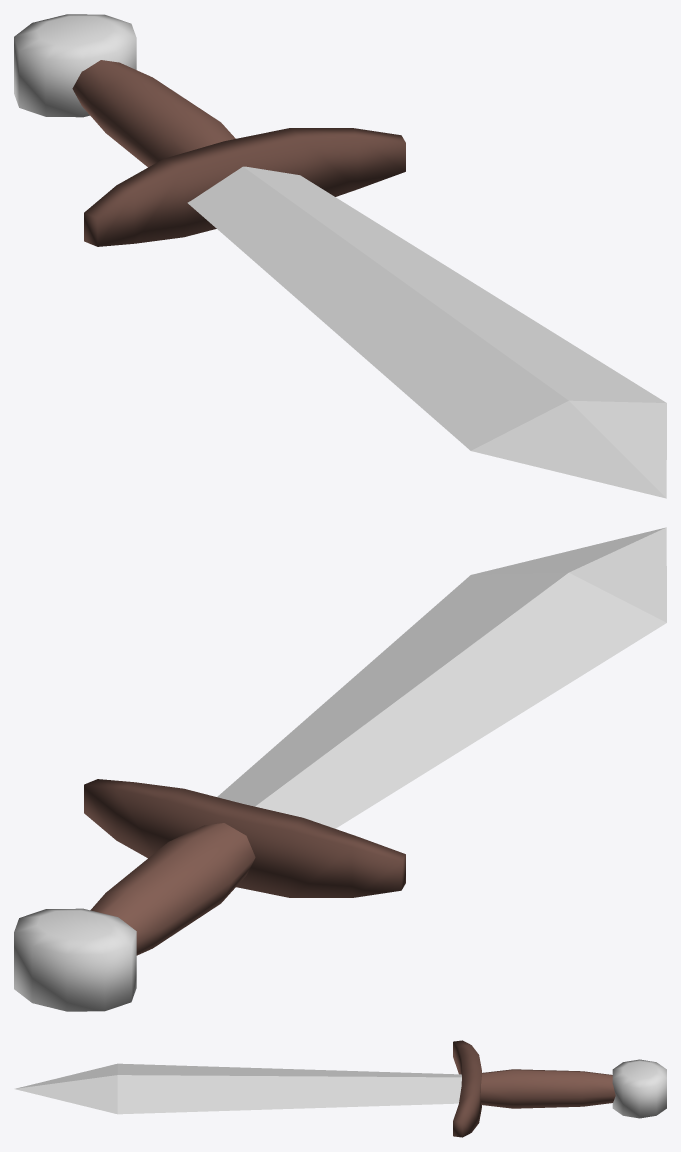
The model's file is sword.fbx.
3 renders of one model, top to bottom at view 1: azimuth 30°, elevation 25°; view 2: azimuth 150°, elevation 25°; view 3: azimuth 270°, elevation 25°, orthographic. The views are drawn at different scales.
Visible parts, largest first — view 1: sword; view 2: sword; view 3: sword.
Boxes of the visible parts, x1,y1,x2,y2 form: sword: [14, 14, 666, 498]; sword: [14, 527, 666, 1011]; sword: [15, 1040, 666, 1137].
Bounding box in the file's own units: 0.2923 × 0.0618 × 0.9839.
